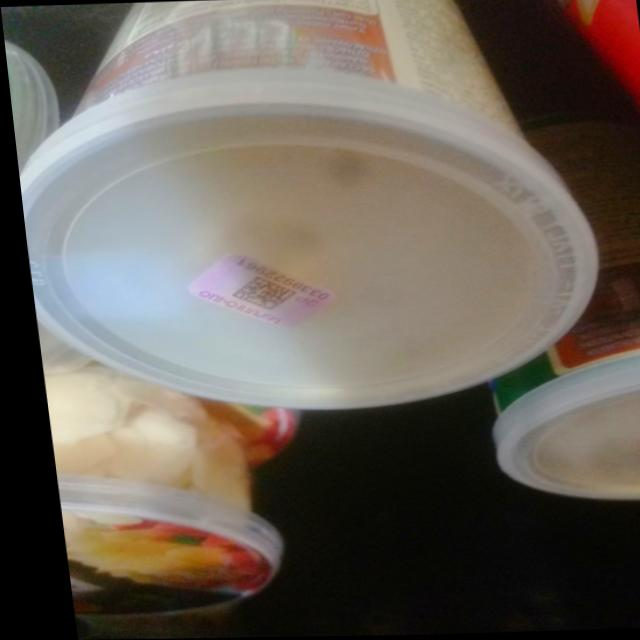datamatrix: (220, 274, 292, 313)
